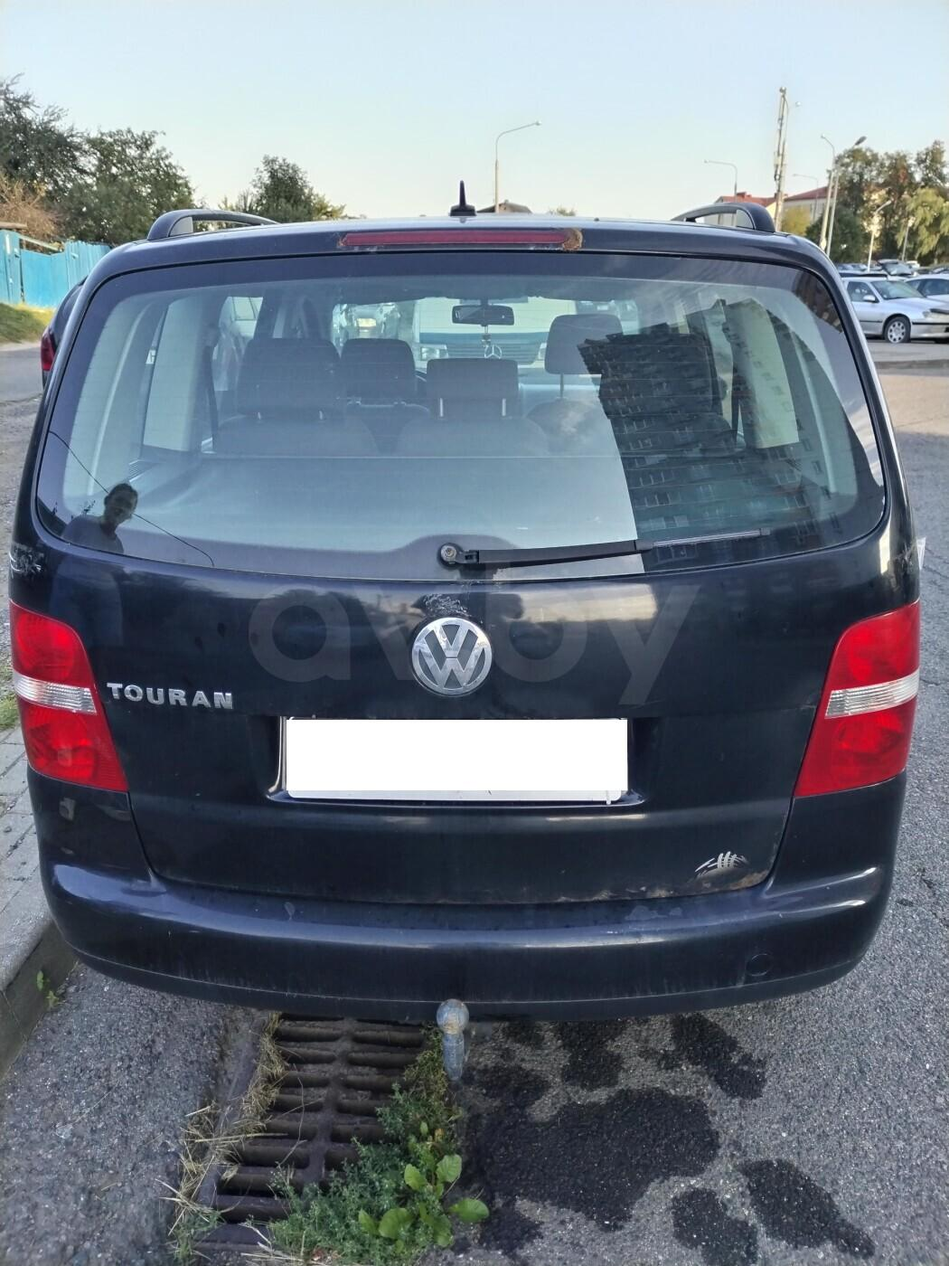Touran_2003-2006: (11, 215, 924, 1029)
